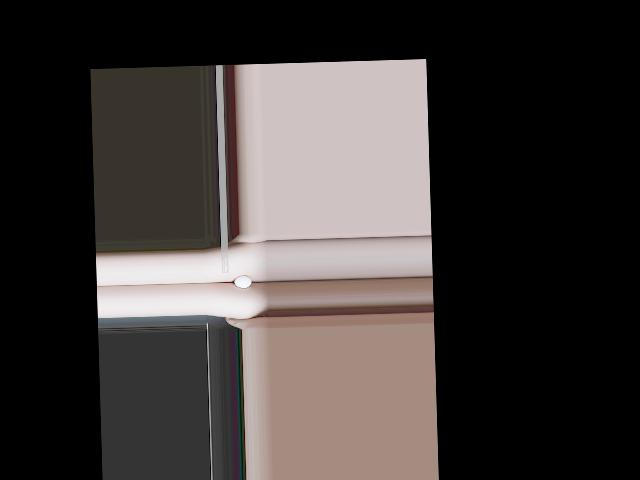egg: (233, 275, 251, 288)
